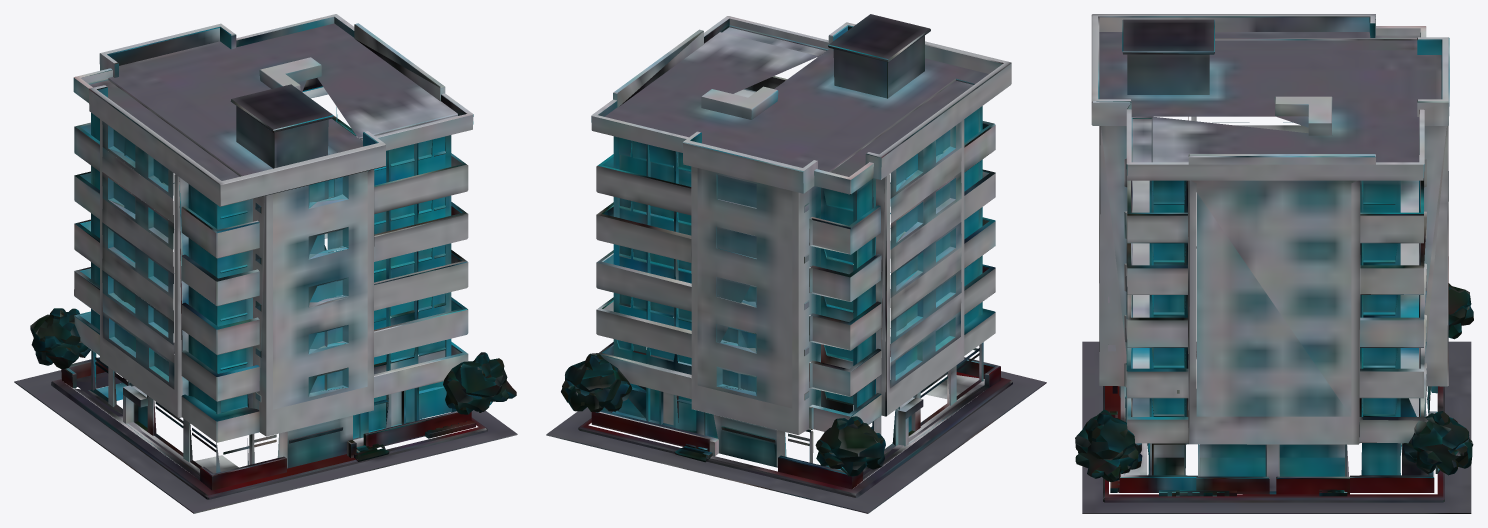
The model's file is apartemen_1_lod2.glb.
3 views of the same model, side by side, from view 1: azimuth 30°, elevation 25°; view 2: azimuth 150°, elevation 25°; view 3: azimuth 270°, elevation 25° (orthographic). The views are drawn at different scales.
Visible parts, largest first — view 1: tripo_node_17eeee4e; view 2: tripo_node_17eeee4e; view 3: tripo_node_17eeee4e.
Boxes of the visible parts, box(x1,y1,x2,y2) form: tripo_node_17eeee4e: box(14, 14, 517, 513); tripo_node_17eeee4e: box(546, 14, 1046, 513); tripo_node_17eeee4e: box(1075, 14, 1473, 513).
Size of the model in its own units: 0.9928 by 1 by 0.963.
Materials: 1 (1 with a texture image).
